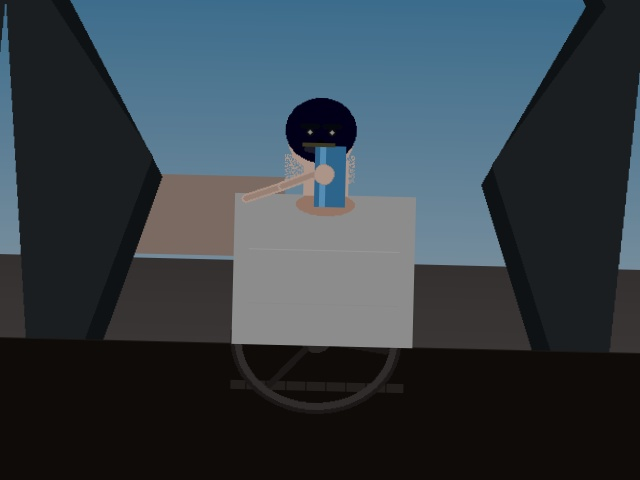drinking: (291, 133, 353, 216)
